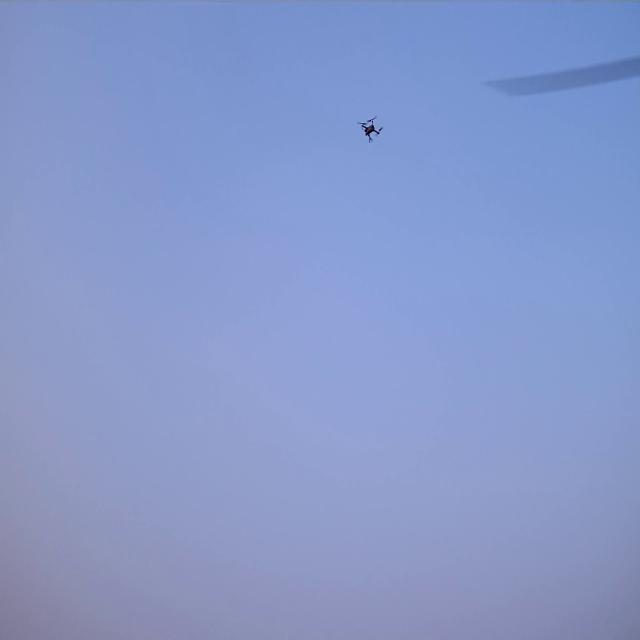UAV: (361, 119, 381, 142)
